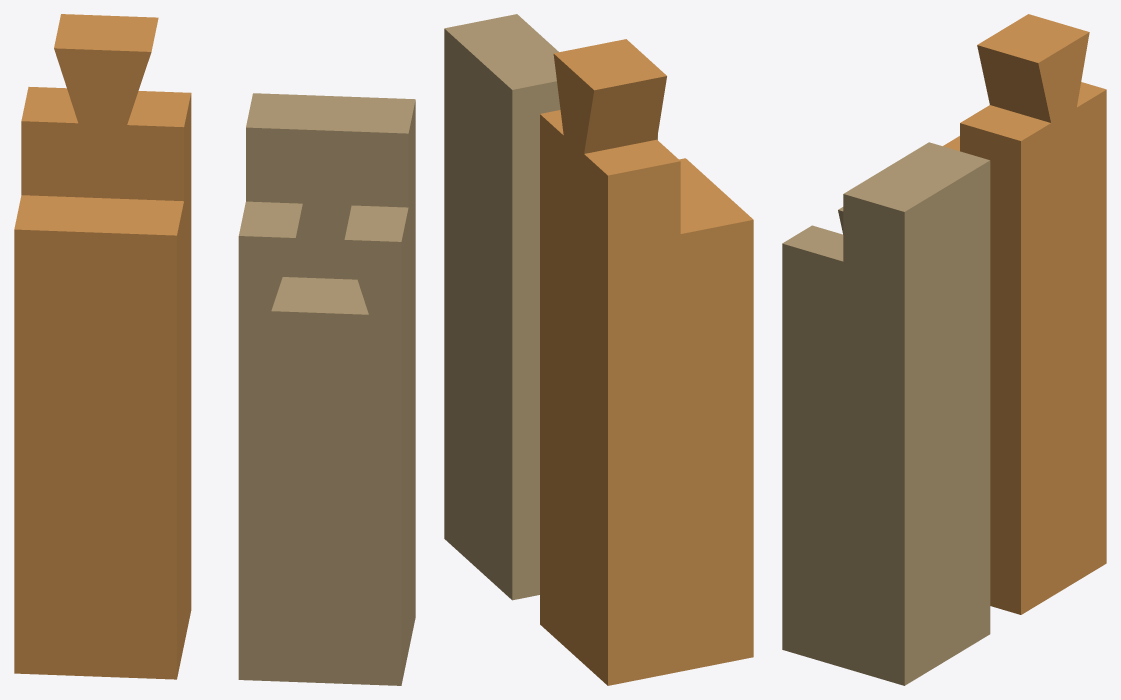
3 renders of one model, left to right at view 1: azimuth 30°, elevation 25°; view 2: azimuth 150°, elevation 25°; view 3: azimuth 270°, elevation 25°, orthographic. The views are drawn at different scales.
Size of the model in its own units: 1.4 by 2.21 by 1.2.
